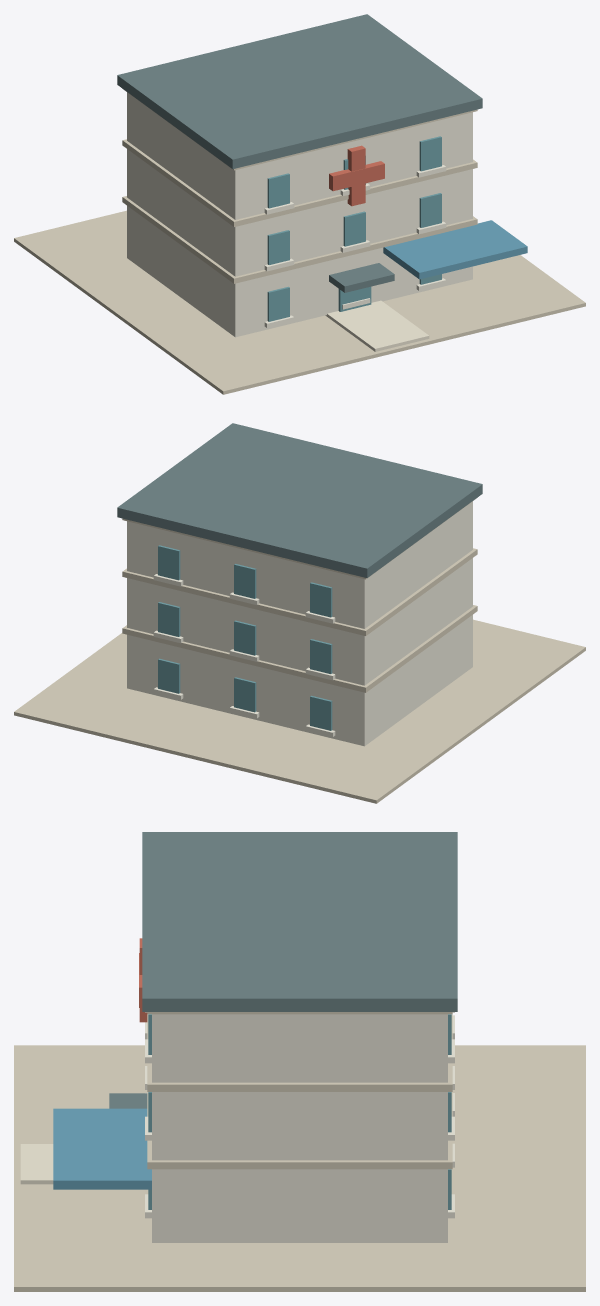
The model's file is civic_healthcare.glb.
3 views of the same model, one above another, from view 1: azimuth 30°, elevation 25°; view 2: azimuth 150°, elevation 25°; view 3: azimuth 270°, elevation 25° (orthographic). The views are drawn at different scales.
Visible parts, largest first — view 1: Masonry shell.004, Copper roof.004, Paved civic lot.004, Ambulance canopy, Front path.004, Limestone course.006, Limestone course.007, Entrance canopy.004, Medical cross horizontal, Medical cross vertical, Recessed glazing.048, Recessed glazing.042 (+6 smaller); view 2: Masonry shell.004, Paved civic lot.004, Copper roof.004, Limestone course.007, Limestone course.006, Recessed glazing.049, Recessed glazing.043, Recessed glazing.051, Recessed glazing.037, Recessed glazing.039, Recessed glazing.041, Recessed glazing.045 (+3 smaller); view 3: Paved civic lot.004, Masonry shell.004, Copper roof.004, Ambulance canopy, Limestone course.006, Limestone course.007, Front path.004, Limestone course.008, Entrance canopy.004.
Boxes of the visible parts, box(x1,y1,x2,y2) form: Masonry shell.004: box(127, 92, 472, 337); Copper roof.004: box(117, 14, 482, 168); Paved civic lot.004: box(14, 210, 585, 394); Ambulance canopy: box(383, 220, 527, 279); Front path.004: box(325, 300, 429, 351); Limestone course.006: box(122, 196, 477, 283); Limestone course.007: box(122, 139, 477, 226); Entrance canopy.004: box(329, 263, 394, 292); Medical cross horizontal: box(329, 161, 384, 191); Medical cross vertical: box(347, 145, 365, 206); Recessed glazing.048: box(267, 173, 289, 208); Recessed glazing.042: box(267, 230, 289, 264); Masonry shell.004: box(127, 501, 472, 746); Paved civic lot.004: box(14, 619, 585, 803); Copper roof.004: box(117, 423, 482, 577); Limestone course.007: box(122, 548, 477, 635); Limestone course.006: box(122, 605, 477, 692); Recessed glazing.049: box(310, 582, 332, 617); Recessed glazing.043: box(310, 639, 332, 673); Recessed glazing.051: box(234, 564, 256, 598); Recessed glazing.037: box(310, 695, 332, 730); Recessed glazing.039: box(234, 677, 256, 712); Recessed glazing.041: box(158, 658, 180, 693); Recessed glazing.045: box(234, 620, 256, 655); Paved civic lot.004: box(14, 1045, 585, 1291); Masonry shell.004: box(152, 1014, 447, 1242); Copper roof.004: box(142, 832, 457, 1011); Ambulance canopy: box(53, 1108, 151, 1189); Limestone course.006: box(147, 1092, 452, 1169); Limestone course.007: box(147, 1014, 452, 1091); Front path.004: box(20, 1144, 53, 1184); Limestone course.008: box(147, 1012, 452, 1014); Entrance canopy.004: box(109, 1093, 147, 1108).
Size of the model in its own units: 8.7 by 4.29 by 8.7.
